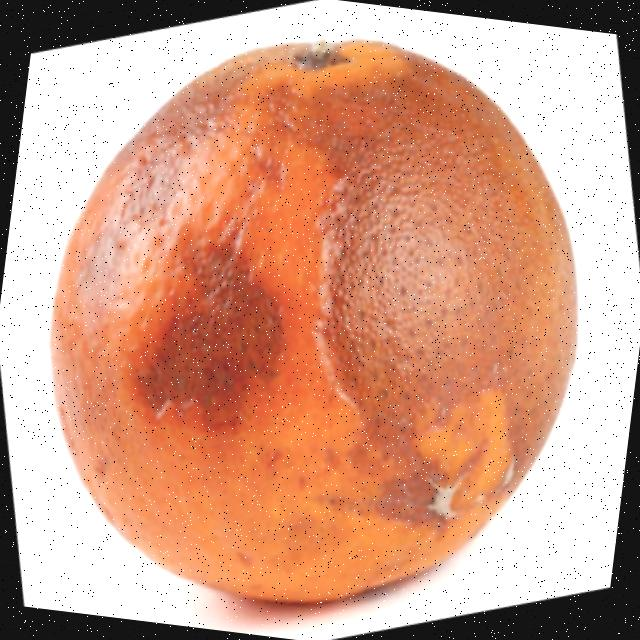overripe: (13, 0, 618, 640)
